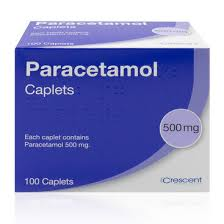Paracetamol: (25, 63, 161, 78)
